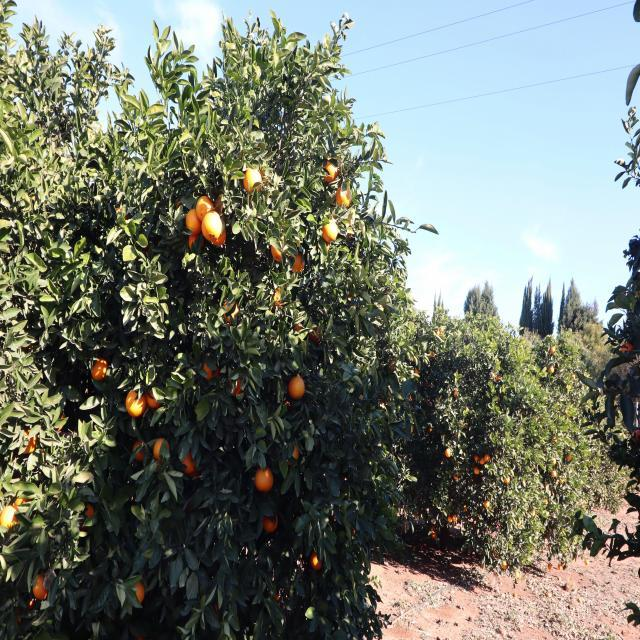Jeruk Sudah Matang: (197, 210, 224, 242), (87, 352, 110, 384), (125, 386, 148, 418), (14, 426, 38, 456), (253, 464, 276, 494), (125, 580, 148, 608), (146, 380, 167, 410), (15, 489, 36, 518), (243, 166, 263, 196), (33, 574, 56, 600), (180, 447, 200, 476), (196, 194, 216, 222), (321, 216, 342, 242), (152, 437, 172, 464), (184, 209, 204, 236), (288, 373, 308, 399), (1, 506, 20, 532), (202, 355, 220, 382), (262, 508, 280, 534), (335, 185, 355, 208), (217, 188, 234, 214), (18, 598, 38, 620), (132, 437, 148, 464), (272, 236, 288, 263), (324, 156, 340, 183), (80, 498, 95, 526), (223, 298, 240, 322), (288, 443, 304, 466), (232, 370, 245, 398), (212, 230, 231, 249), (294, 312, 309, 336), (311, 320, 328, 341), (290, 250, 306, 272), (175, 192, 188, 218), (309, 550, 325, 570), (185, 236, 203, 252), (272, 284, 285, 306), (318, 238, 332, 256), (620, 341, 634, 358), (261, 166, 274, 184), (387, 354, 400, 372), (630, 425, 640, 447), (268, 586, 282, 600), (406, 423, 416, 439), (406, 391, 417, 404), (410, 353, 420, 366), (428, 350, 437, 362), (426, 424, 434, 436), (414, 369, 422, 381), (445, 446, 453, 458), (514, 566, 522, 578), (530, 504, 538, 516), (452, 471, 460, 482), (488, 371, 496, 382), (453, 430, 461, 440), (472, 466, 480, 476), (484, 453, 492, 463), (454, 388, 461, 399), (473, 453, 480, 464), (492, 548, 500, 557), (484, 498, 491, 508), (516, 517, 523, 527), (494, 447, 502, 455), (548, 366, 556, 374), (504, 474, 511, 483), (550, 345, 556, 355), (461, 504, 468, 512), (494, 396, 502, 403), (566, 409, 573, 417), (464, 421, 470, 430), (502, 560, 508, 569), (550, 455, 556, 464), (560, 475, 566, 484), (566, 453, 572, 462), (437, 394, 442, 404), (431, 531, 437, 539), (517, 410, 523, 418), (519, 426, 525, 434), (552, 436, 558, 444), (548, 562, 553, 571), (534, 414, 540, 421), (448, 514, 452, 524), (453, 514, 458, 522), (572, 372, 577, 380), (529, 462, 534, 470), (585, 558, 590, 566), (480, 457, 484, 466), (496, 376, 502, 382), (552, 468, 556, 477), (559, 562, 563, 571), (458, 418, 463, 425), (414, 514, 419, 521), (436, 329, 440, 336), (432, 526, 436, 532), (440, 327, 444, 332)
